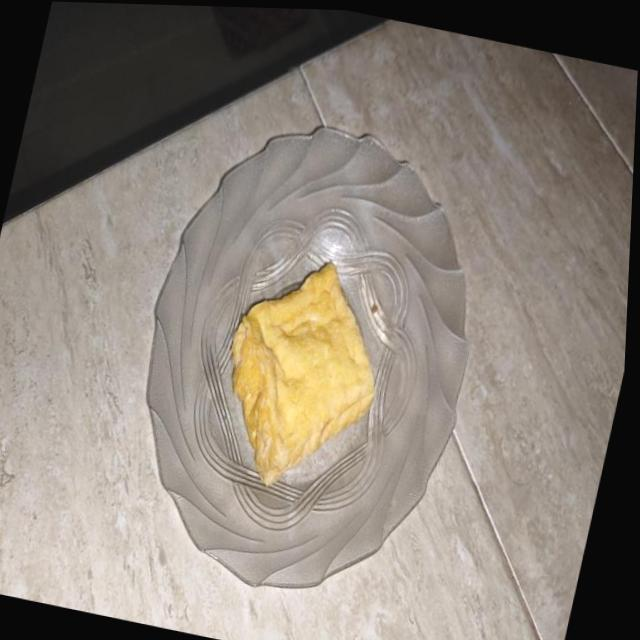tahu_goreng: (231, 263, 374, 486)
